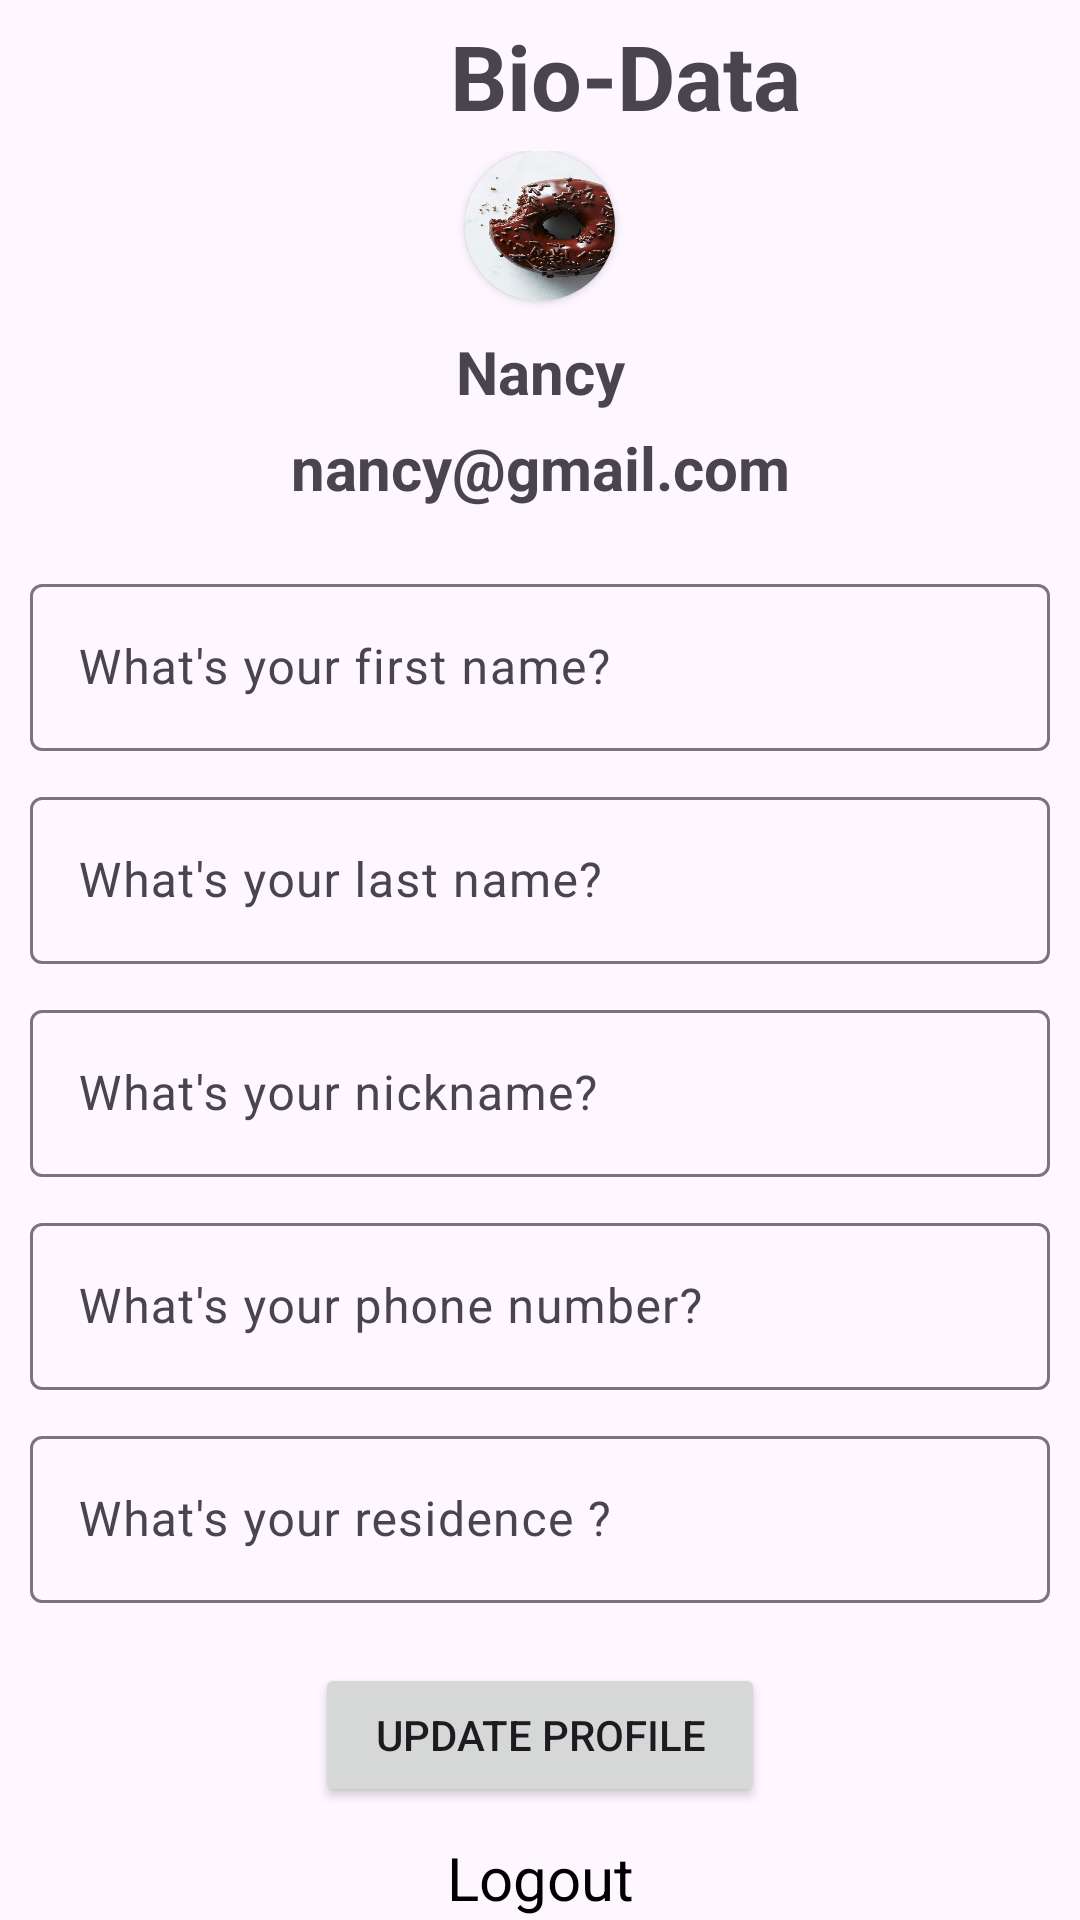

Screen size 1080*1920. Icon name, then its box in pixels as region(x1, y1, x2, y2):
donut: region(465, 169, 615, 301)
